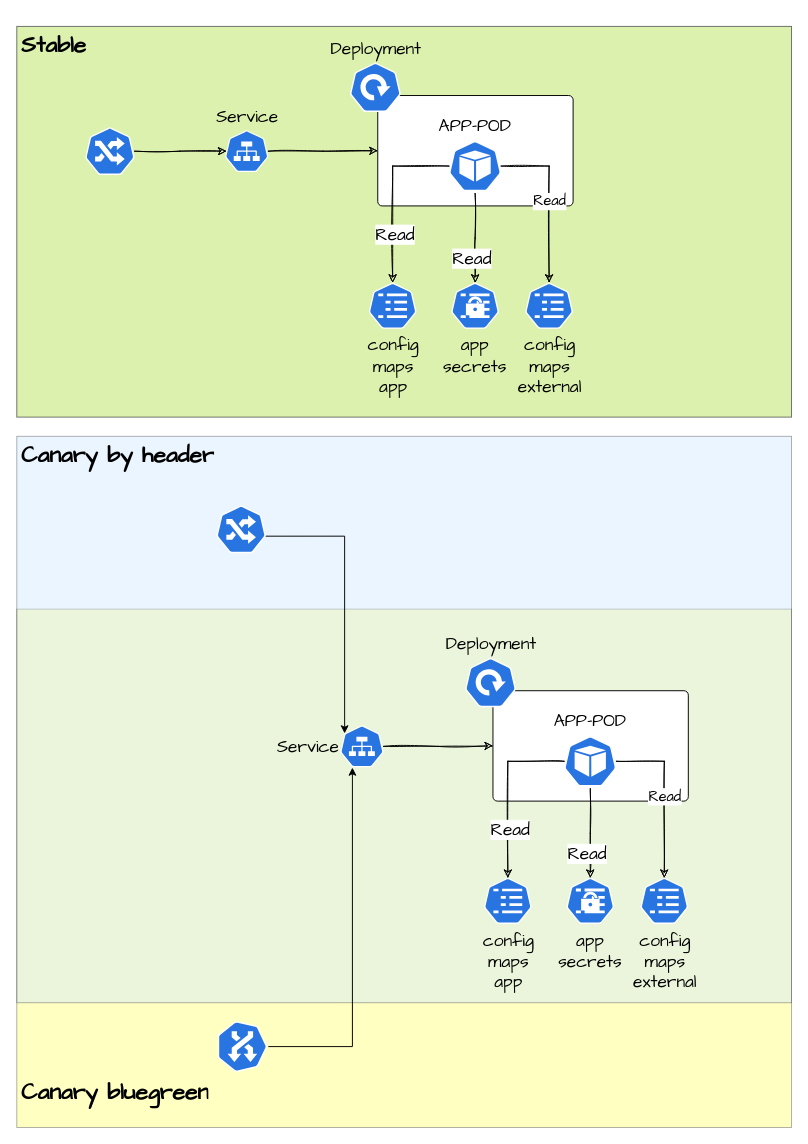
The diagram is 808 pixels wide and 1144 high, and some of its shapes have lost their labels. The centre of each missing label's shape, as x and y in pixels:
"Ingress NGINX endpoint by header or weight" belongs at (241,529).
"Ingress NGINX endpoint with path /beta*" belongs at (242,1046).
"Ingress NGINX stable endpoint" belongs at (109,150).
